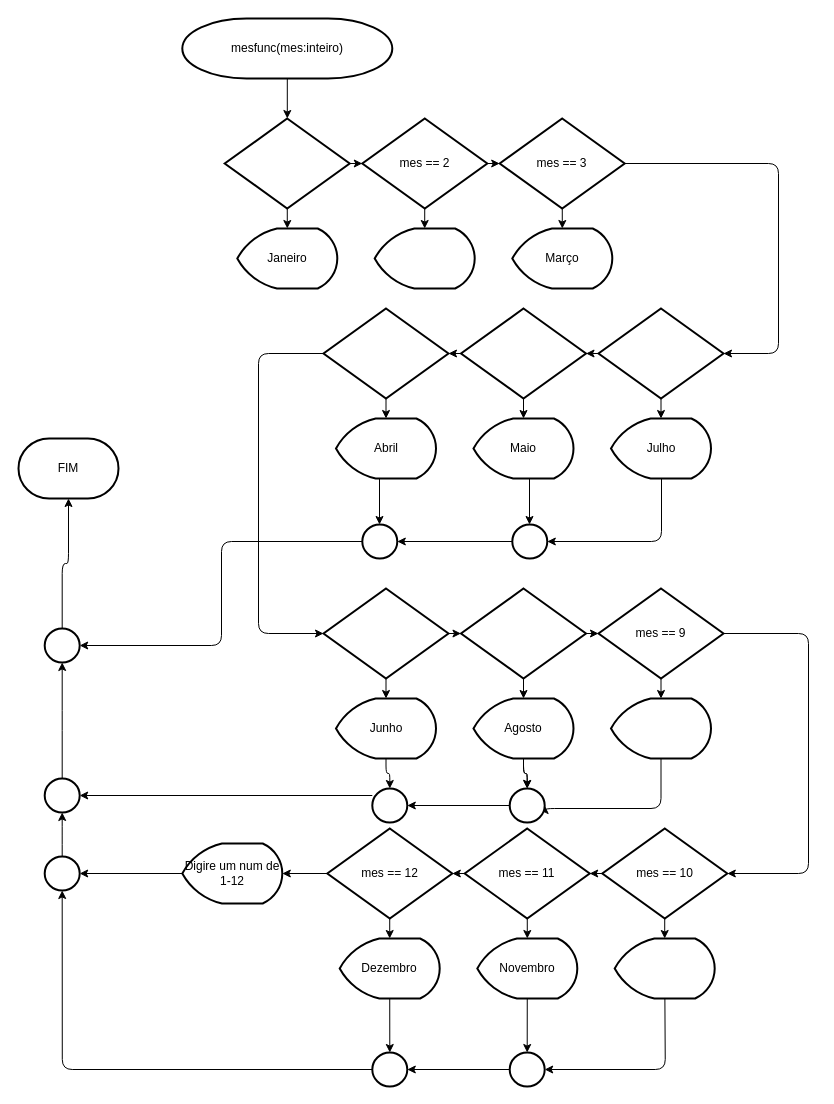
Some shapes in this 834 by 1104 pixel diagram are drawn without their labels. Here are the shapes that lost their labels. From the top down, the centre of each, then its label:
At (x=286, y=163): "mes == 1".
At (x=424, y=258): "Fevereiro".
At (x=385, y=353): "mes == 4".
At (x=523, y=353): "mes == 5".
At (x=660, y=353): "mes == 6".
At (x=385, y=633): "mes == 7".
At (x=523, y=633): "mes == 8".
At (x=661, y=728): "Setembro".
At (x=664, y=968): "Outubro".
